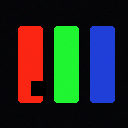1 square: (31, 81, 45, 95)
